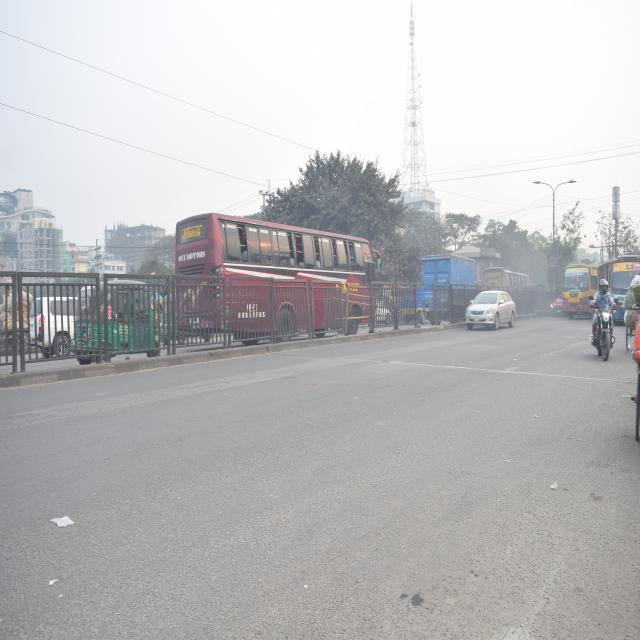bus: (165, 222, 372, 347), (557, 258, 600, 324)
car: (462, 286, 518, 344), (25, 292, 77, 352)
motorbike: (591, 278, 623, 360)
pickup-van: (419, 251, 478, 334)
